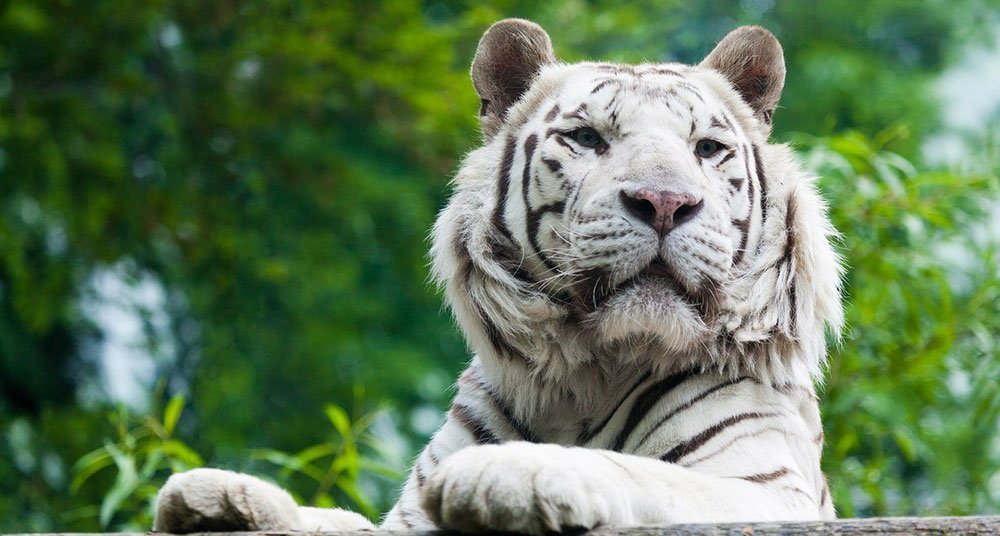Tigrew: (406, 15, 895, 521)
